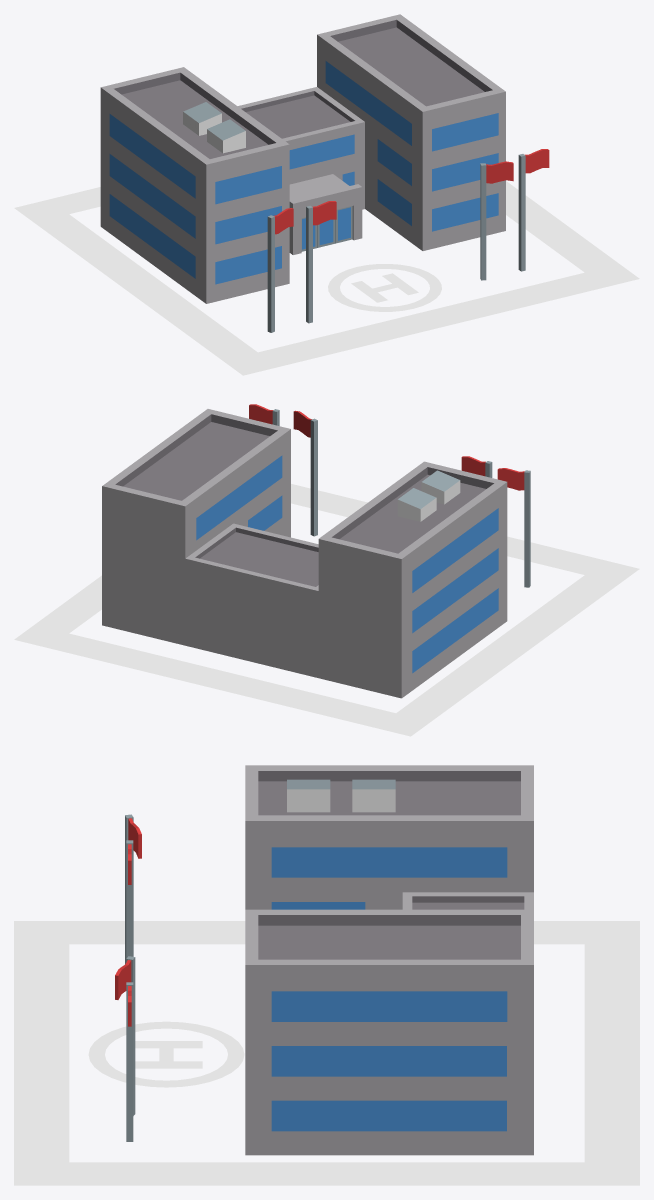
Rendered from Headquaters.fbx.
The picture shows the model from 3 angles, top to bottom: view 1: azimuth 30°, elevation 25°; view 2: azimuth 150°, elevation 25°; view 3: azimuth 270°, elevation 25°; orthographic projection. The views are drawn at different scales.
Visible parts, largest first — view 1: Headquaters; view 2: Headquaters; view 3: Headquaters.
Boxes of the visible parts, x1,y1,x2,y2 form: Headquaters: (14, 14, 639, 375); Headquaters: (14, 404, 639, 736); Headquaters: (14, 765, 639, 1185).
Bounding box in the file's own units: 238 × 86.42 × 238.
